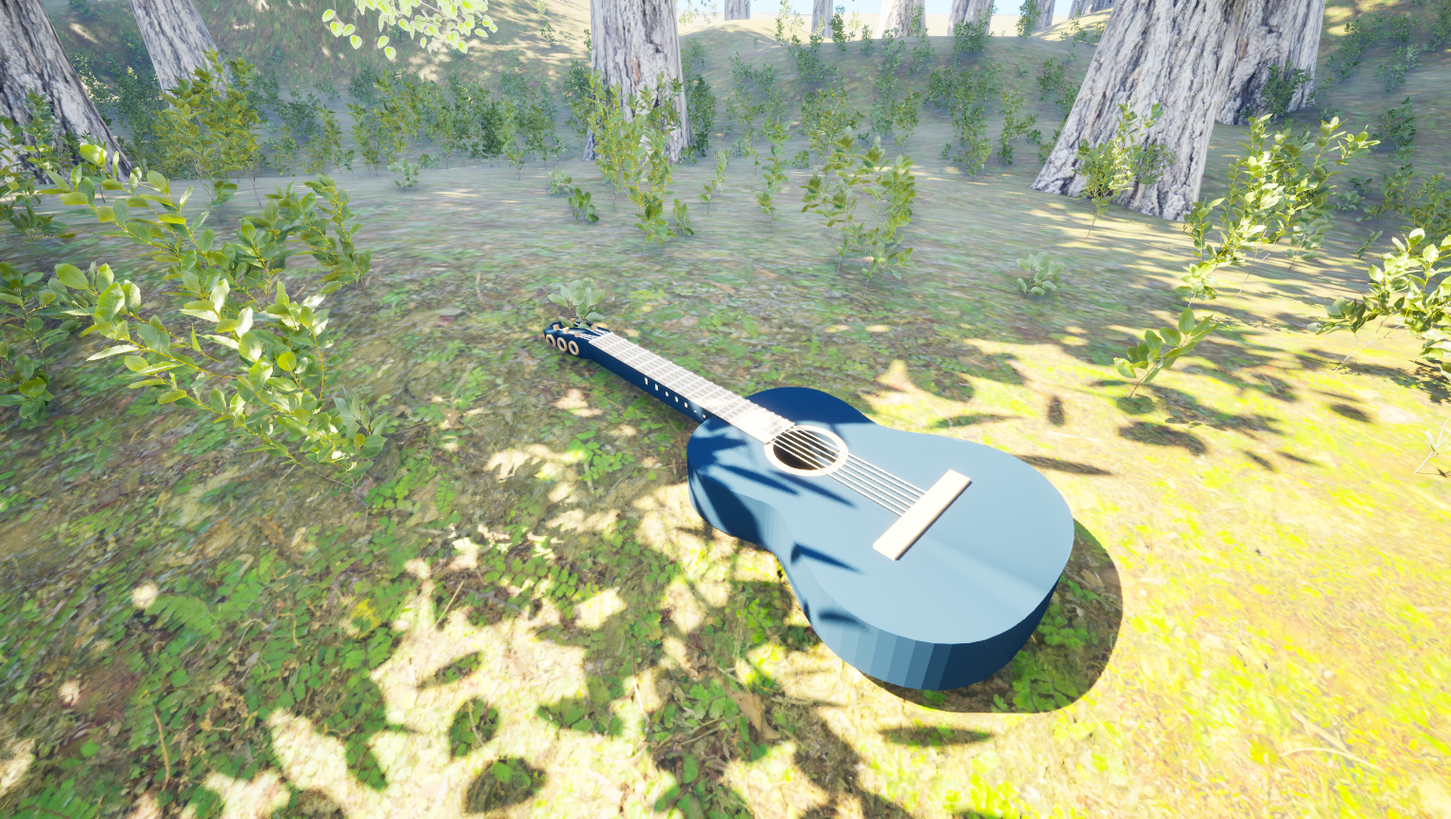Guitar: (460, 285, 1112, 748)
